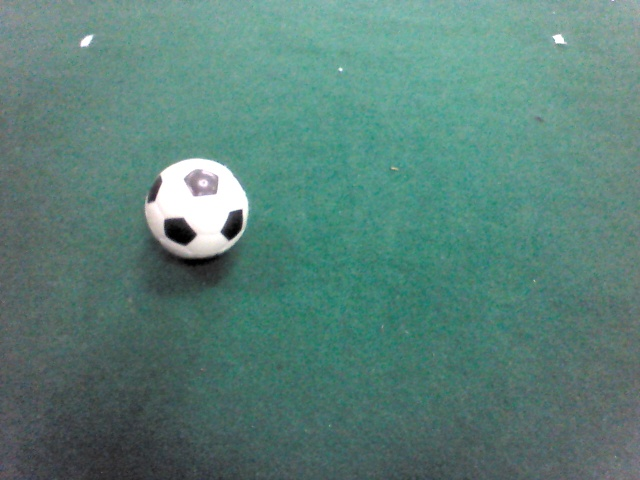ball: (142, 157, 251, 261)
